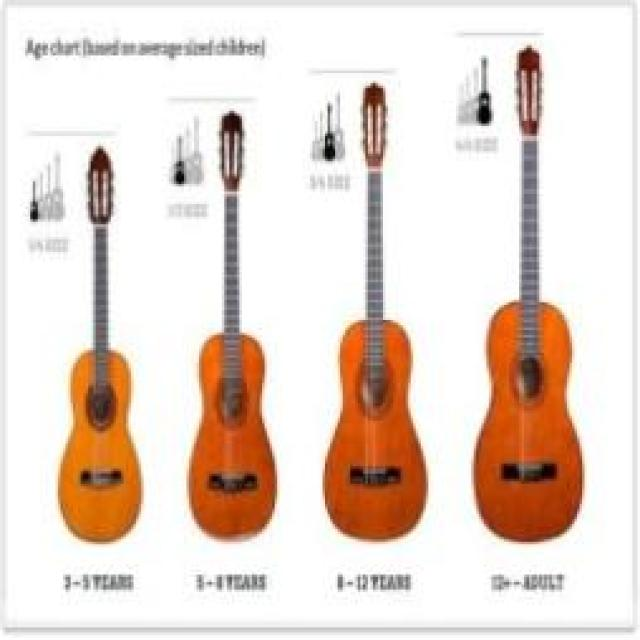acousticguitar: (471, 48, 582, 542), (323, 81, 426, 539), (186, 111, 277, 539), (58, 146, 139, 539)
